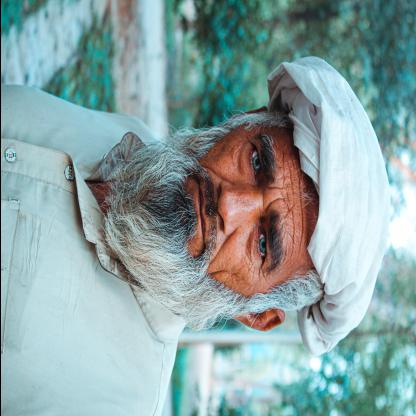Eye: (254, 224, 268, 266), (248, 141, 262, 181)
Mouth: (194, 178, 206, 247)
Nose: (217, 183, 255, 233)
